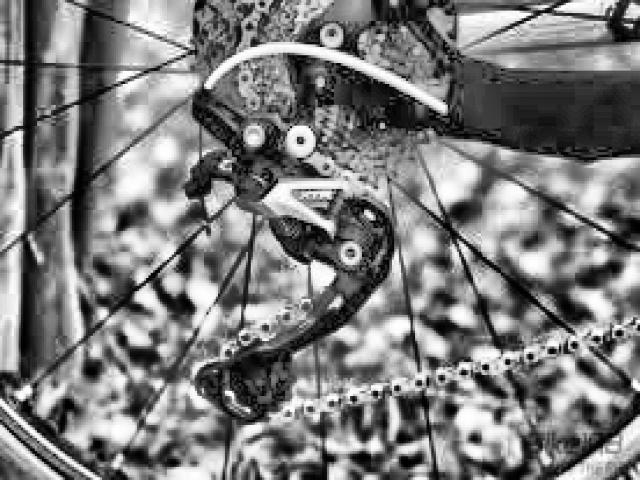rear_derailleur: (182, 121, 396, 429)
